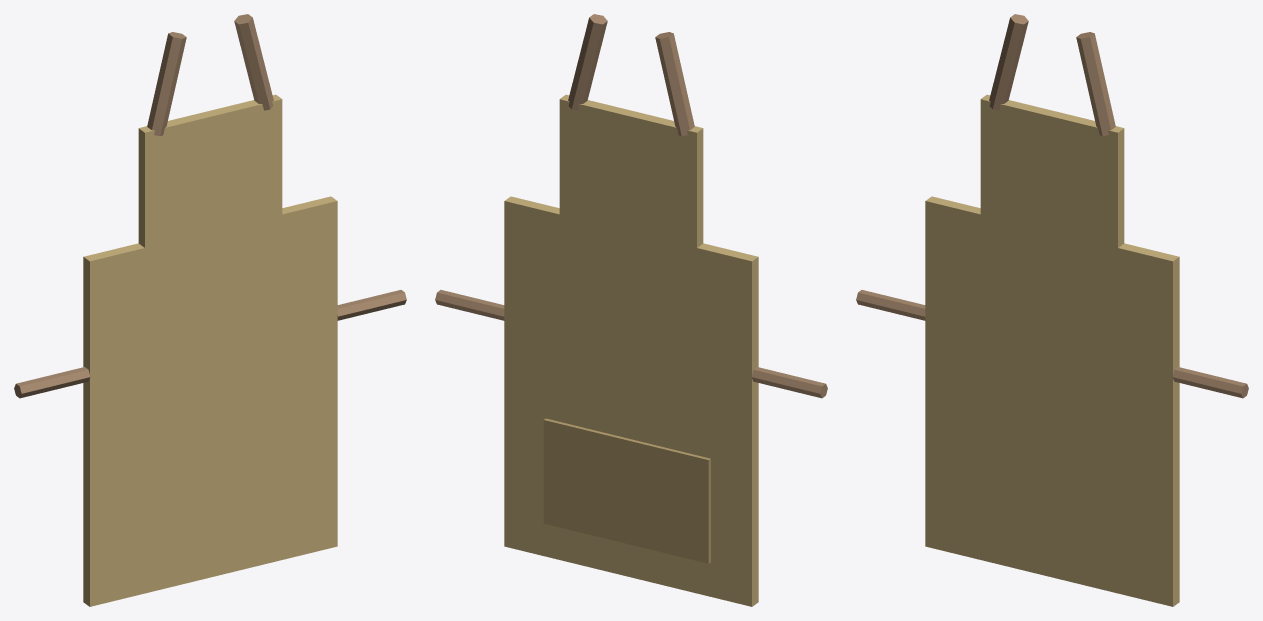
File: textil_avental.glb
The picture shows the model from 3 angles, left to right: view 1: azimuth 30°, elevation 25°; view 2: azimuth 150°, elevation 25°; view 3: azimuth 330°, elevation 25°; orthographic projection.
Parts seen in each view (by area): view 1: TEXTIL_AVENTAL_v01; view 2: TEXTIL_AVENTAL_v01; view 3: TEXTIL_AVENTAL_v01.
Boxes of the visible parts, x1,y1,x2,y2 form: TEXTIL_AVENTAL_v01: (14, 14, 406, 606); TEXTIL_AVENTAL_v01: (435, 14, 827, 606); TEXTIL_AVENTAL_v01: (856, 14, 1248, 606).
Bounding box in the file's own units: 0.7 × 0.9532 × 0.0315.
